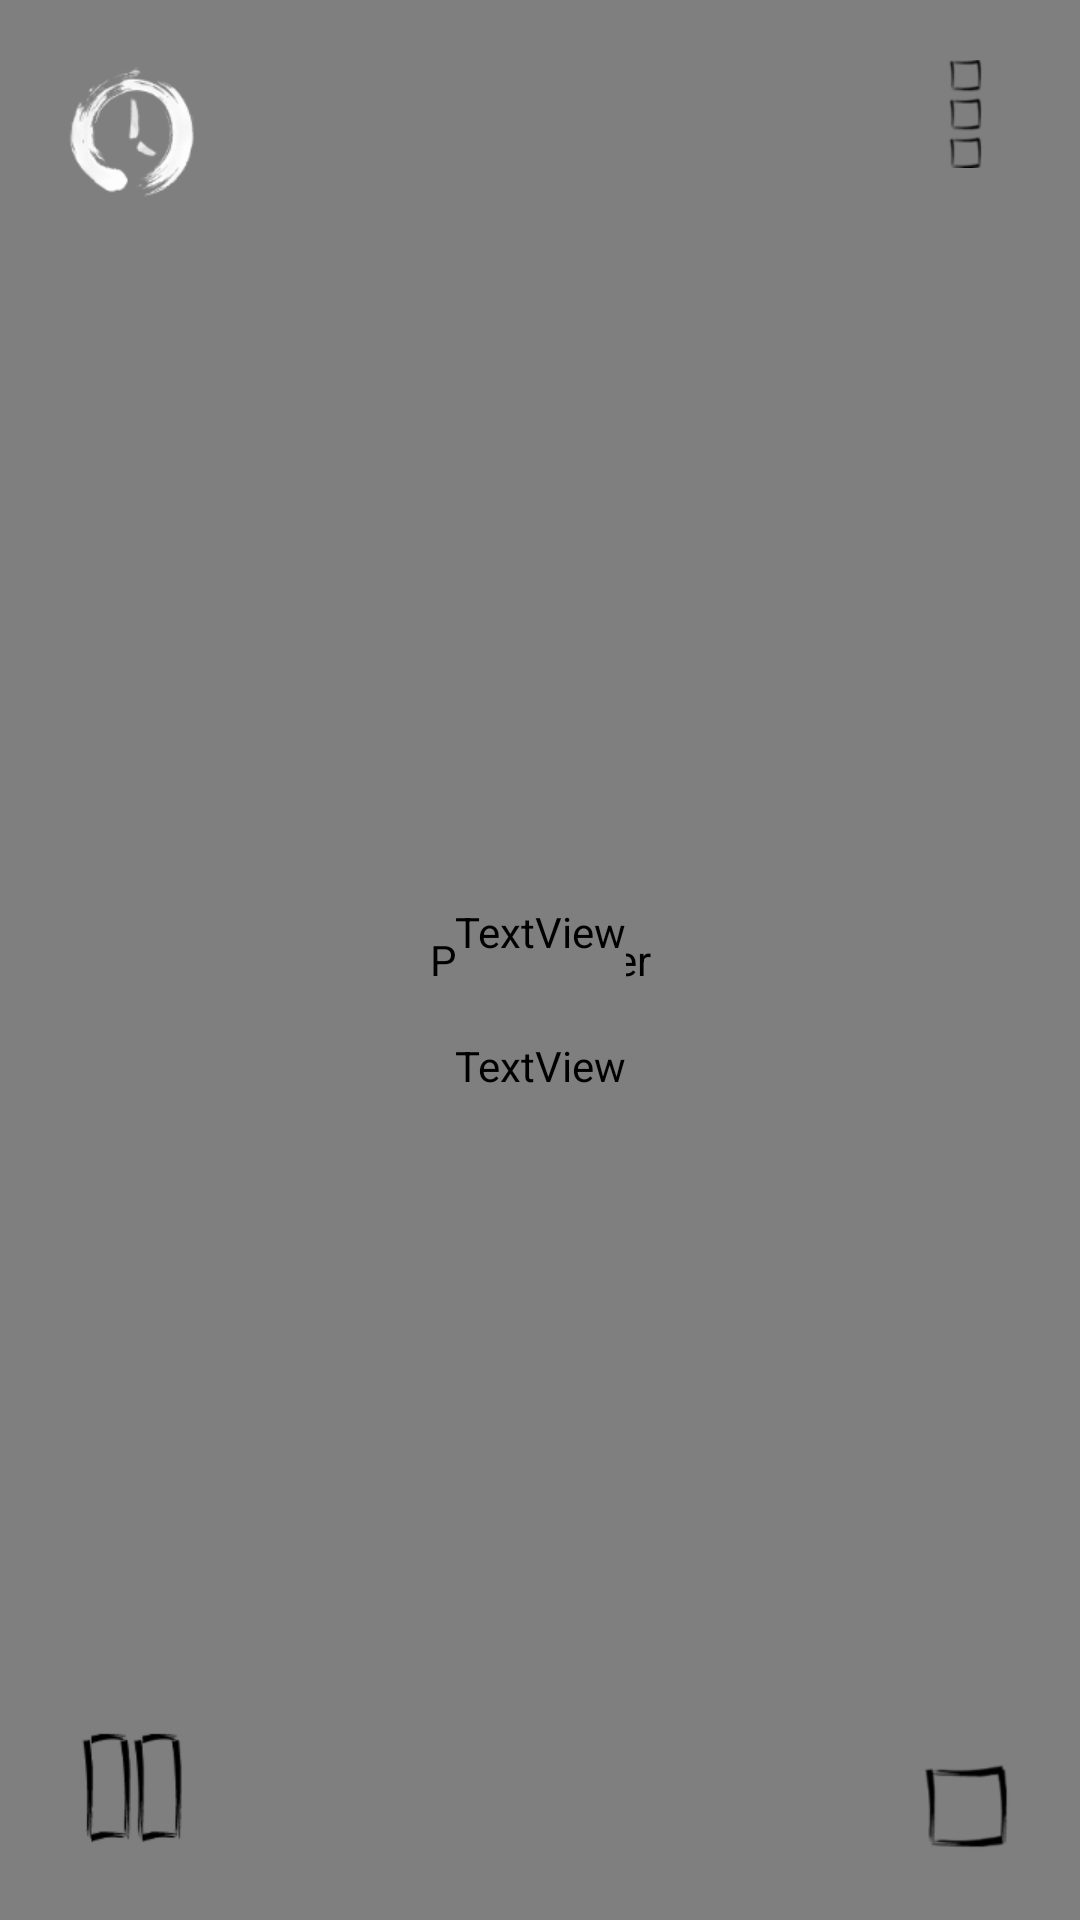

Icon bounding boxes for this 1080*1920 phone screenshot, format [x1, y1, x2, y2]:
Pause: [83, 1734, 182, 1842]
Set: [70, 70, 194, 195]
